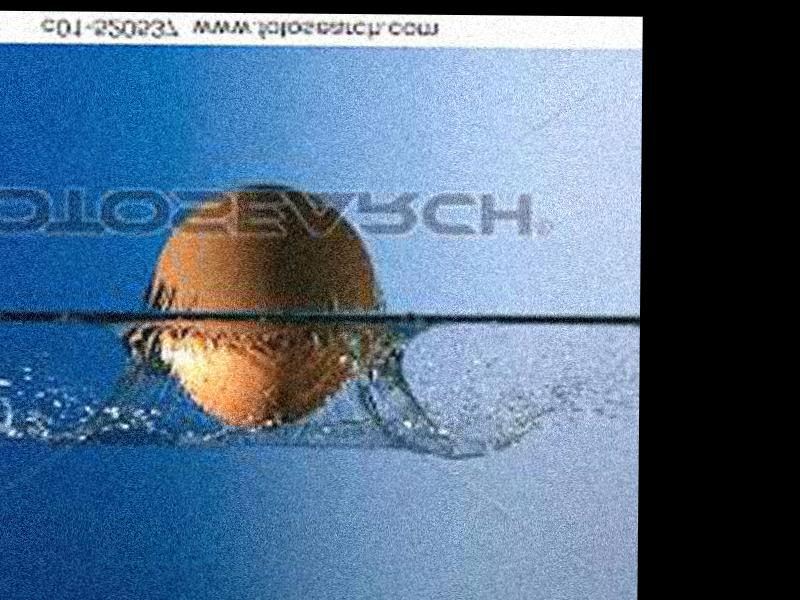Eggs: (151, 187, 378, 432)
